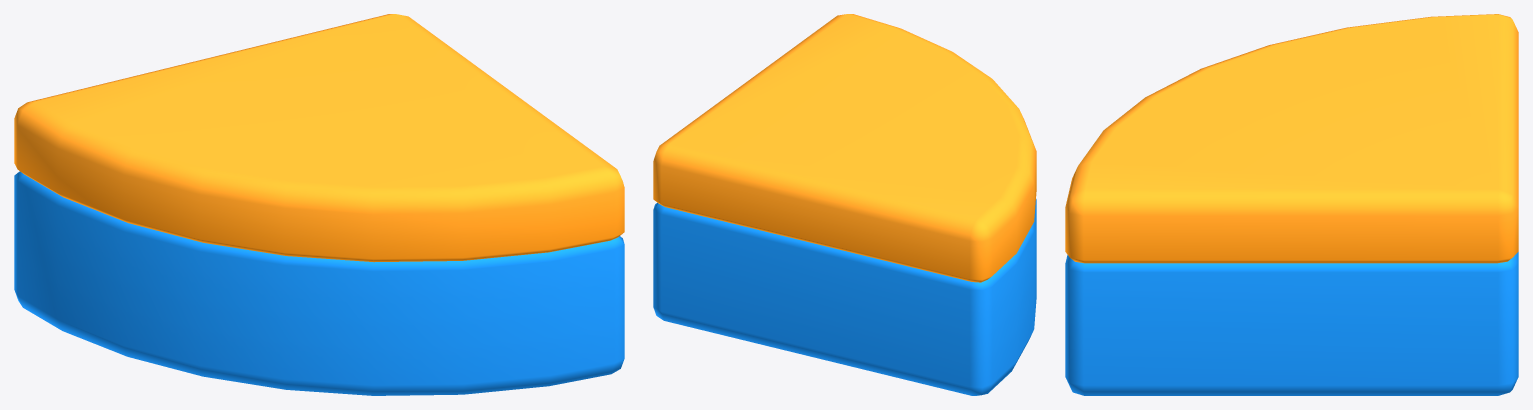
File: Platform_27.glb
3 renders of one model, left to right at view 1: azimuth 30°, elevation 25°; view 2: azimuth 150°, elevation 25°; view 3: azimuth 270°, elevation 25°, orthographic. The views are drawn at different scales.
Visible parts, largest first — view 1: Platform_27; view 2: Platform_27; view 3: Platform_27.
Boxes of the visible parts, x1,y1,x2,y2 form: Platform_27: (14, 14, 624, 395); Platform_27: (653, 14, 1036, 395); Platform_27: (1065, 14, 1518, 395).
Size of the model in its own units: 5.97 by 3 by 5.97.
Materials: 1 (1 with a texture image).
